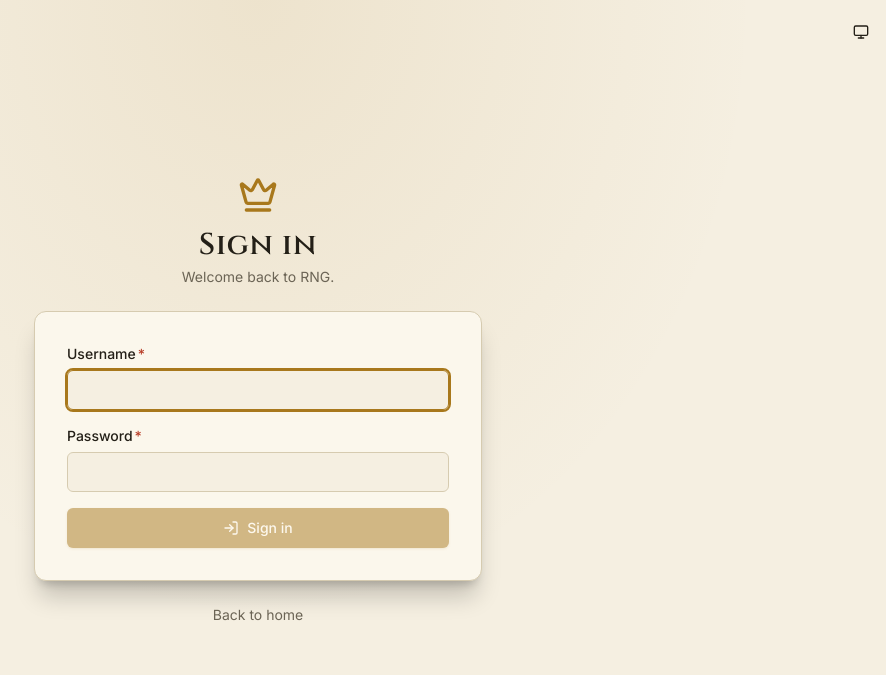
Test case: LoginPage › shows a network error
This screenshot has width=886, height=675.
Step 1. Type "admin" into the field labelled "Username*" → (258, 390), box x1=67 y1=370 x2=449 y2=410
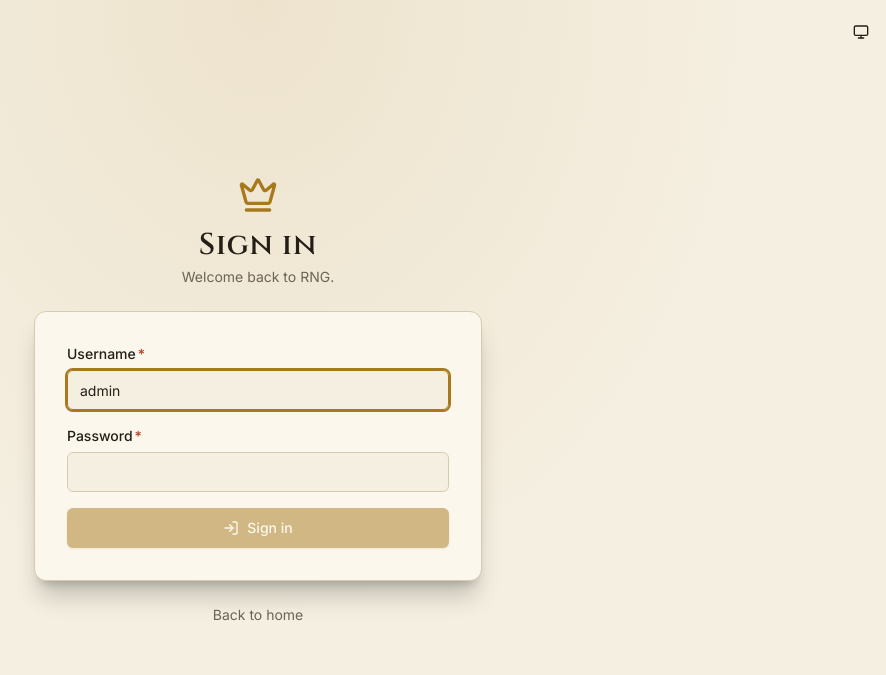
Step 2. Type "password" into the password field labelled "Password*" → (258, 472), box x1=67 y1=452 x2=449 y2=492
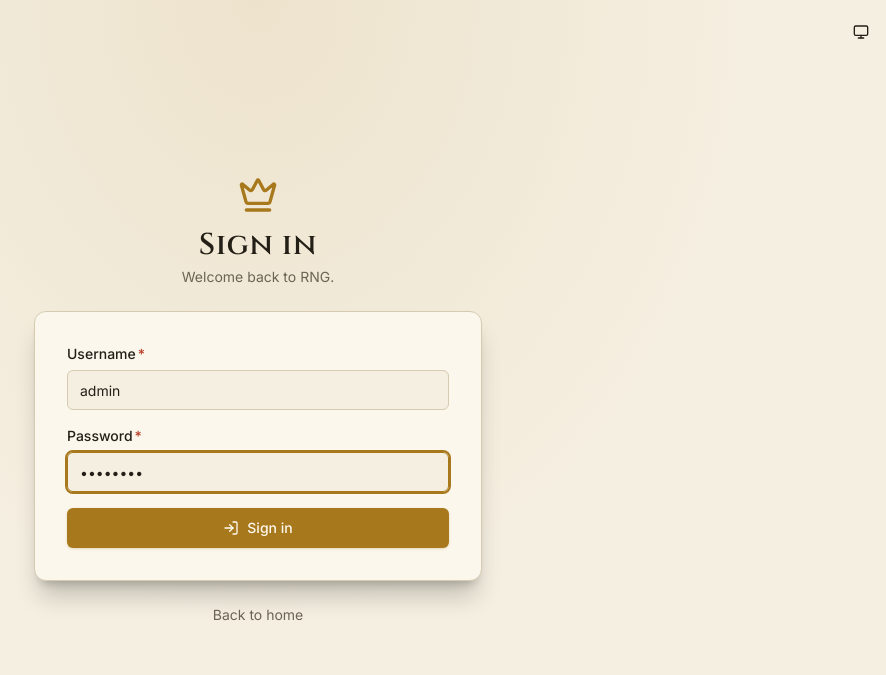
Step 3. Click the button "Sign in" → (258, 528), box x1=67 y1=508 x2=449 y2=548
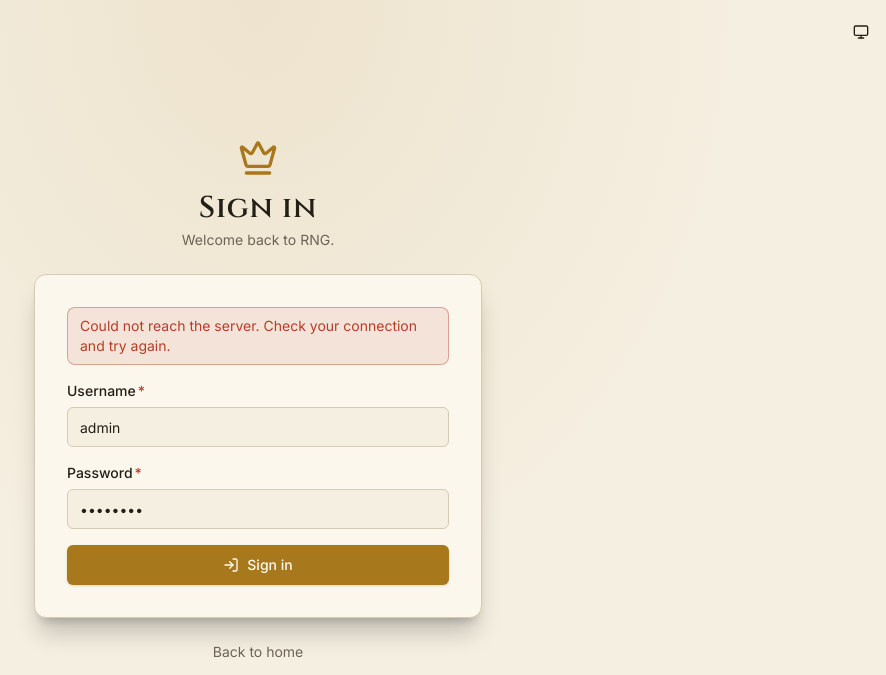
Result: the message shows "Could not reach the server" at x1=80 y1=317 x2=417 y2=354
